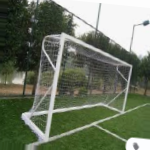goals: (20, 33, 133, 137)
